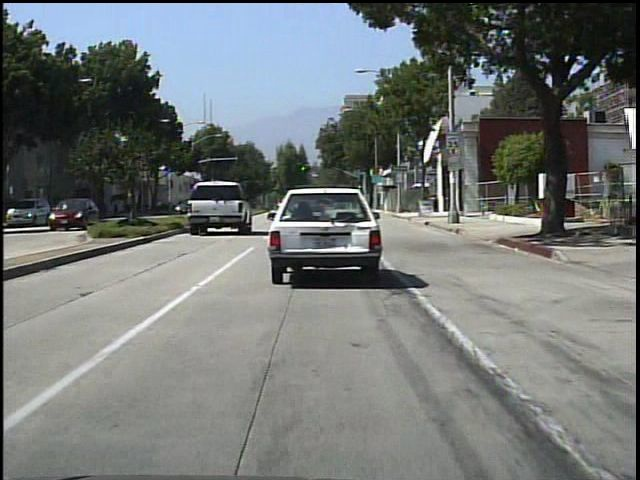person: (111, 196, 123, 219)
